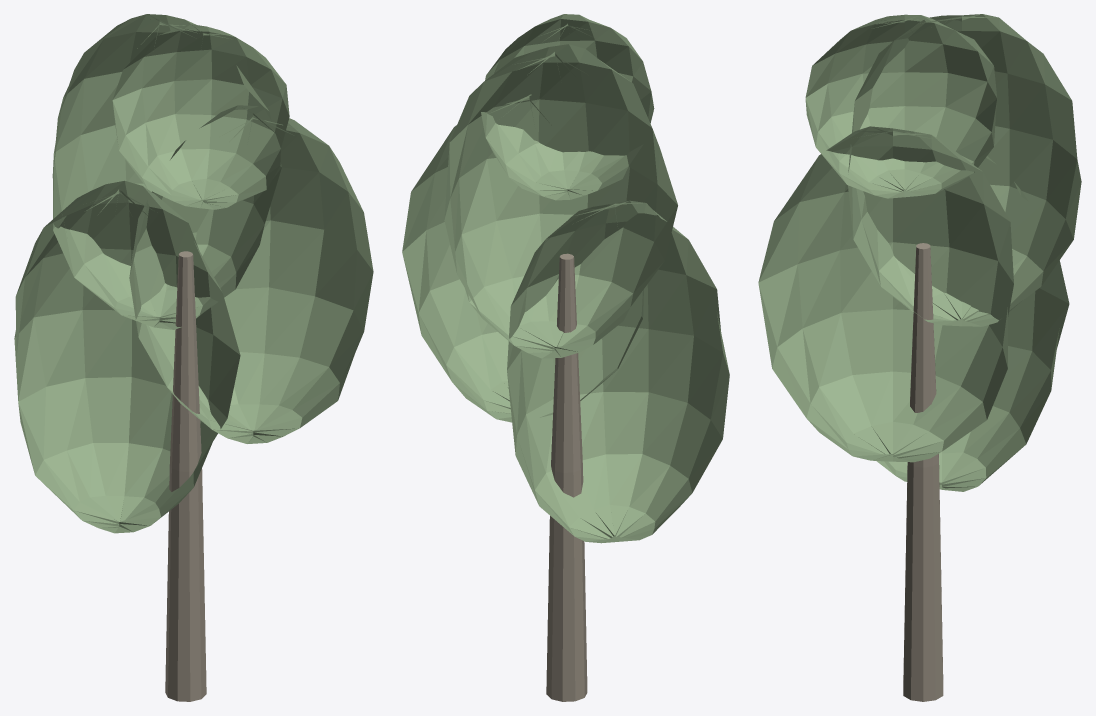
Rendered from tree-c.glb.
3 views of the same model, side by side, from view 1: azimuth 30°, elevation 25°; view 2: azimuth 150°, elevation 25°; view 3: azimuth 270°, elevation 25° (orthographic). The views are drawn at different scales.
Visible parts, largest first — view 1: VEG_FOLIAGE, VEG_TRUNK; view 2: VEG_FOLIAGE, VEG_TRUNK; view 3: VEG_FOLIAGE, VEG_TRUNK.
Boxes of the visible parts, left/top/right/bottom form: VEG_FOLIAGE: left=14, top=14, right=373, bottom=533; VEG_TRUNK: left=165, top=251, right=206, bottom=701; VEG_FOLIAGE: left=402, top=14, right=729, bottom=543; VEG_TRUNK: left=546, top=253, right=587, bottom=701; VEG_FOLIAGE: left=758, top=14, right=1081, bottom=491; VEG_TRUNK: left=903, top=243, right=943, bottom=701.
Bounding box in the file's own units: 2.94 × 6 × 2.6.
